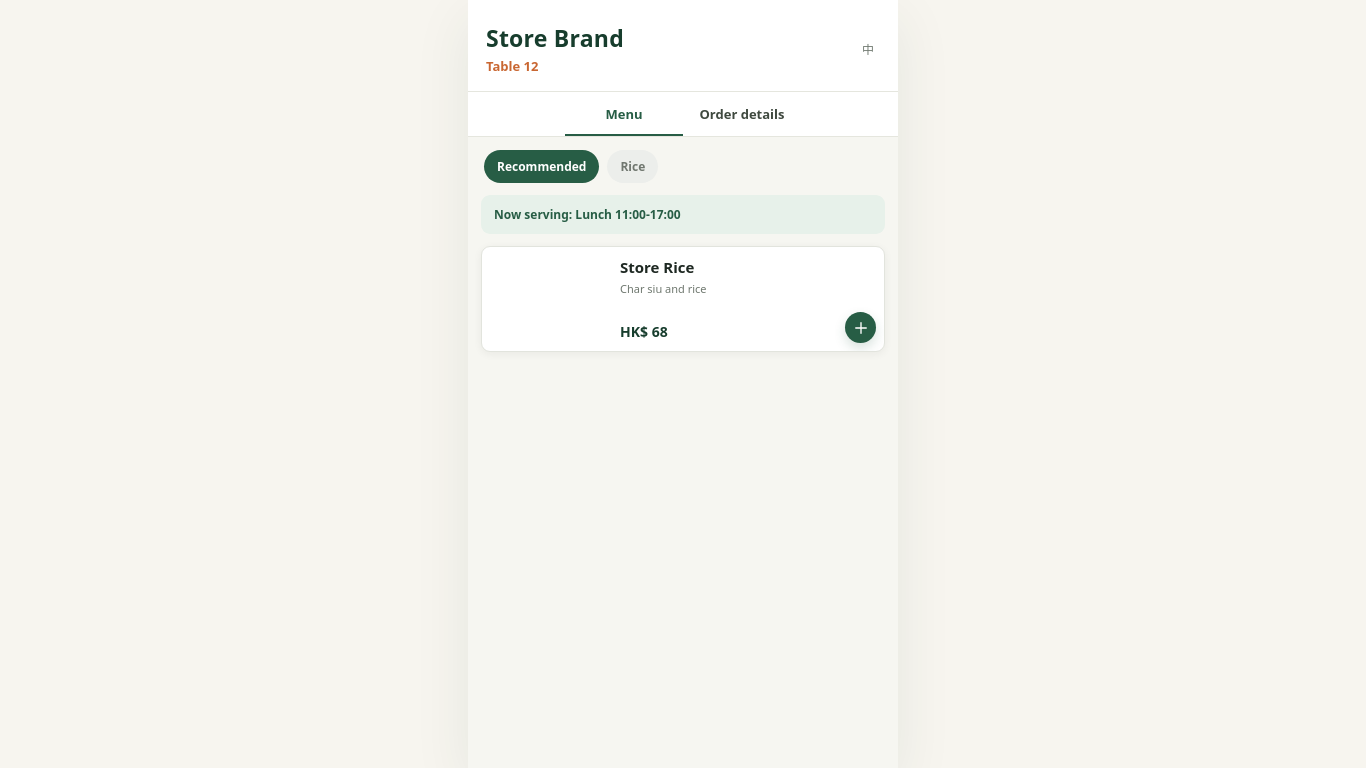
GuestApp store integration › shows a submit failure notice and keeps the cart when order creation rejects
What coordinates should you click on to do the following:
click the button named "Add Store Rice"
I would click on:
 (860, 328)
Its box is [845, 312, 876, 343].
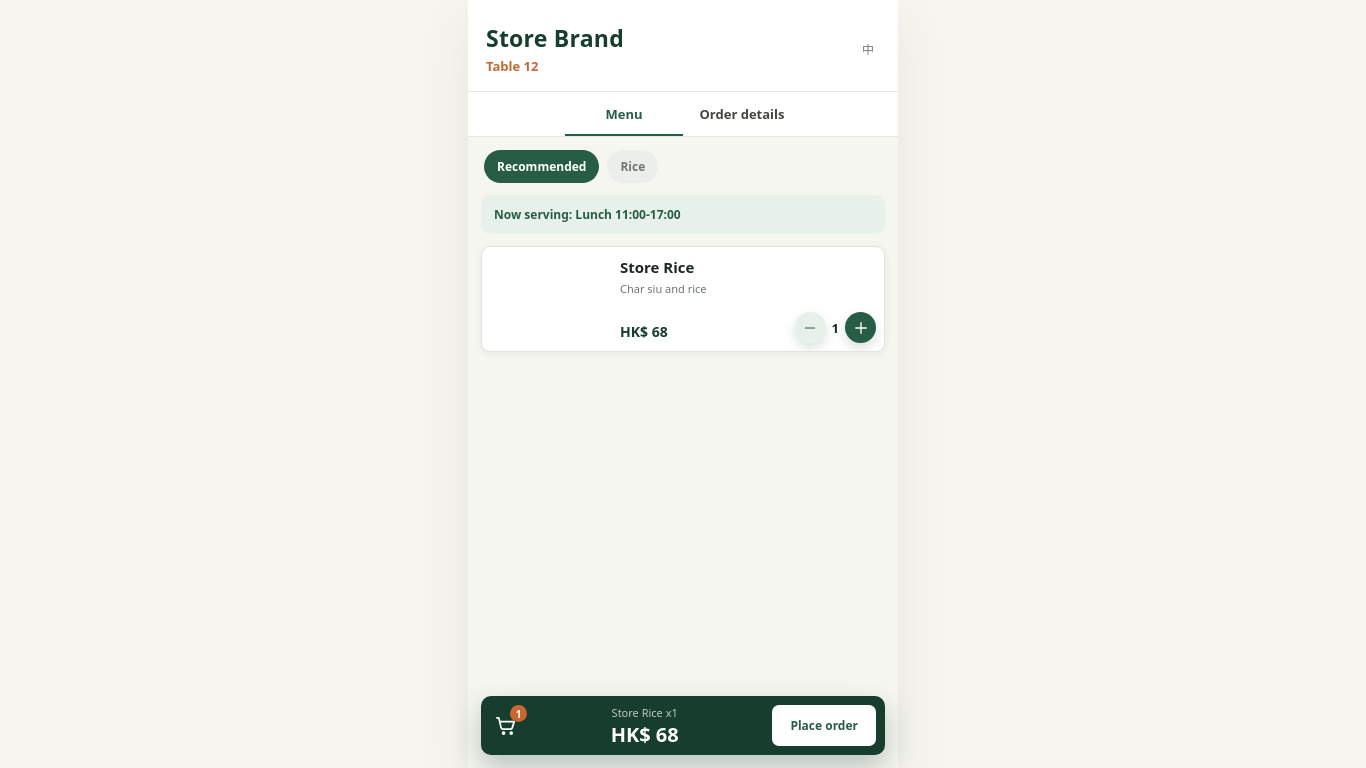
What coordinates should you click on to do the following:
click the button "1 Store Rice x1 HK$ 68 Place order"
I would click on:
 (645, 712)
Its box is [481, 696, 885, 755].
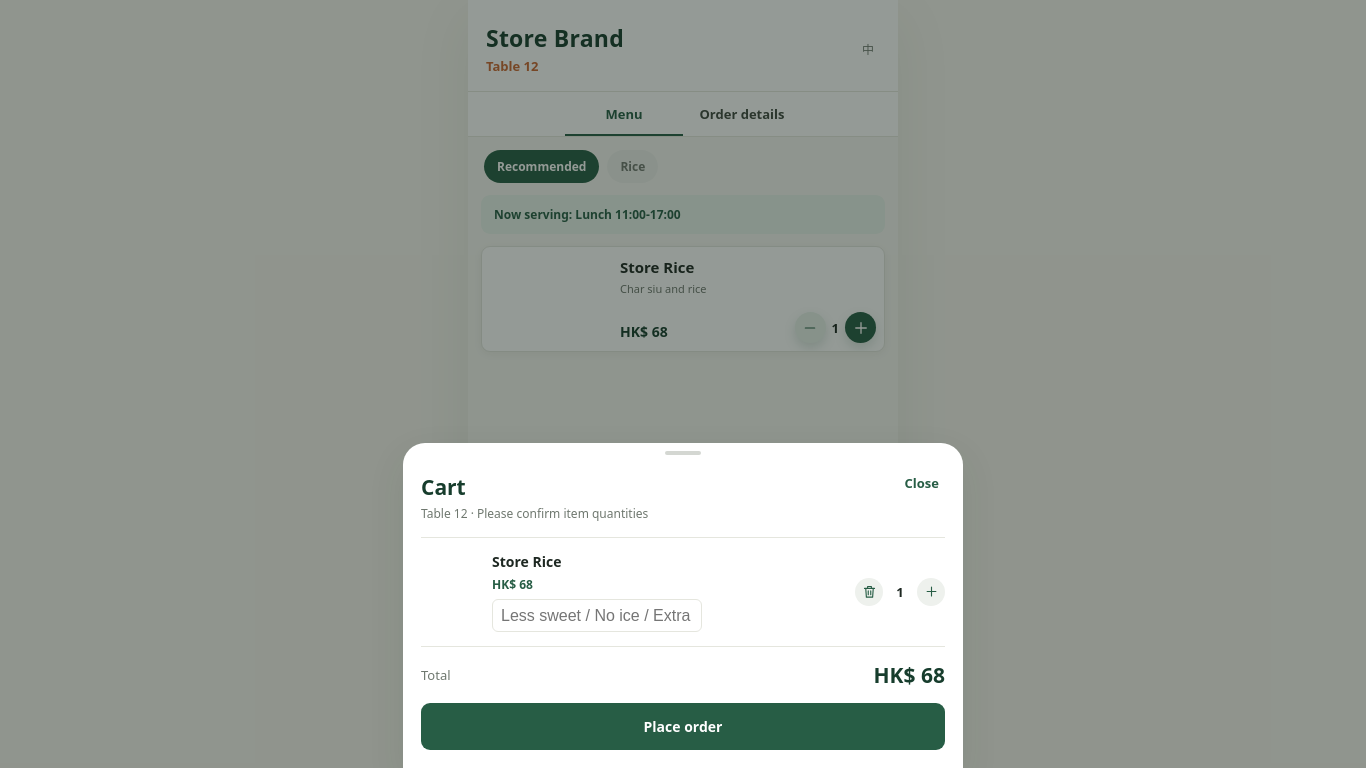
What coordinates should you click on to do the following:
click the button "Place order"
I would click on:
 (683, 726)
Its box is [421, 703, 945, 750].
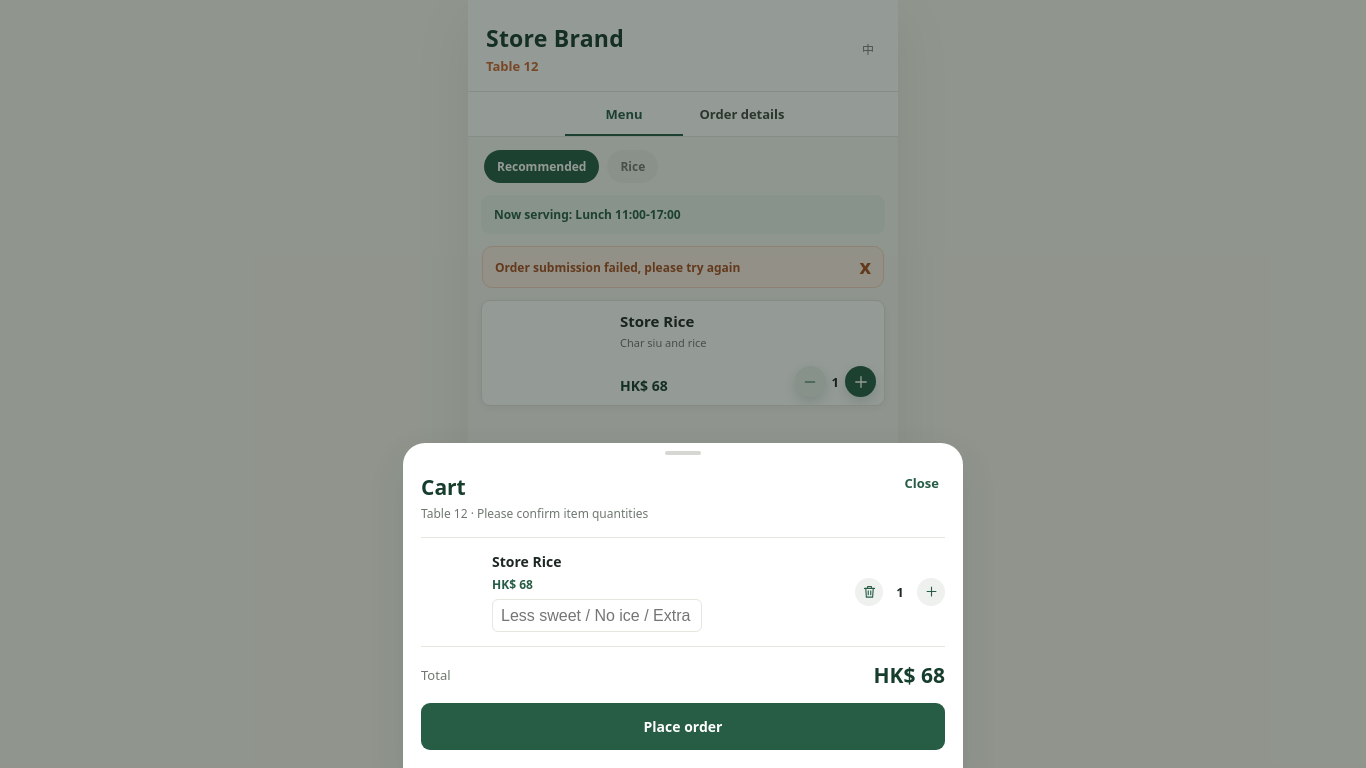
Expected: the button "1 Store Rice x1 HK$ 68 Place order" is shown, [481, 696, 885, 755]
Expected: the text "Order submission failed, please try again" is shown, [495, 258, 740, 276]
